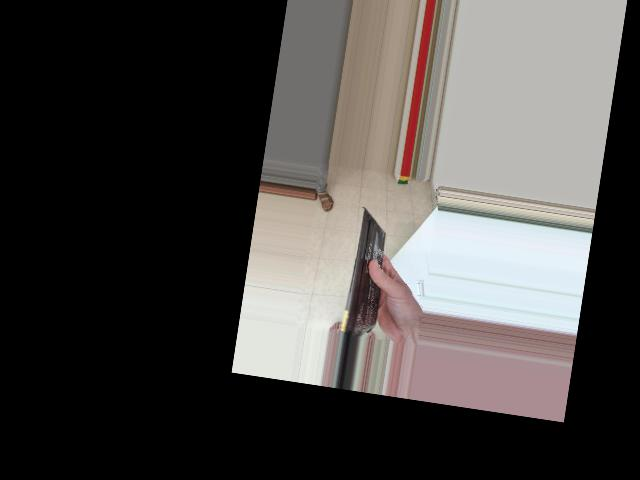chocolate: (335, 217, 395, 340)
